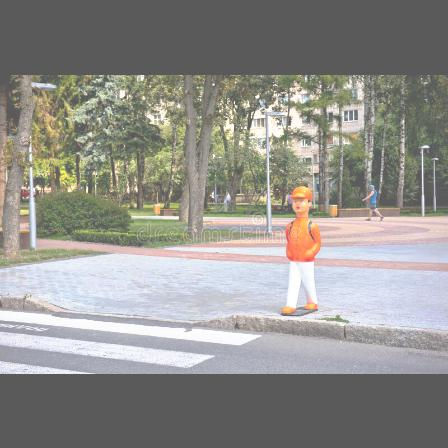Mannequin: (282, 186, 320, 314), (362, 180, 382, 220)
